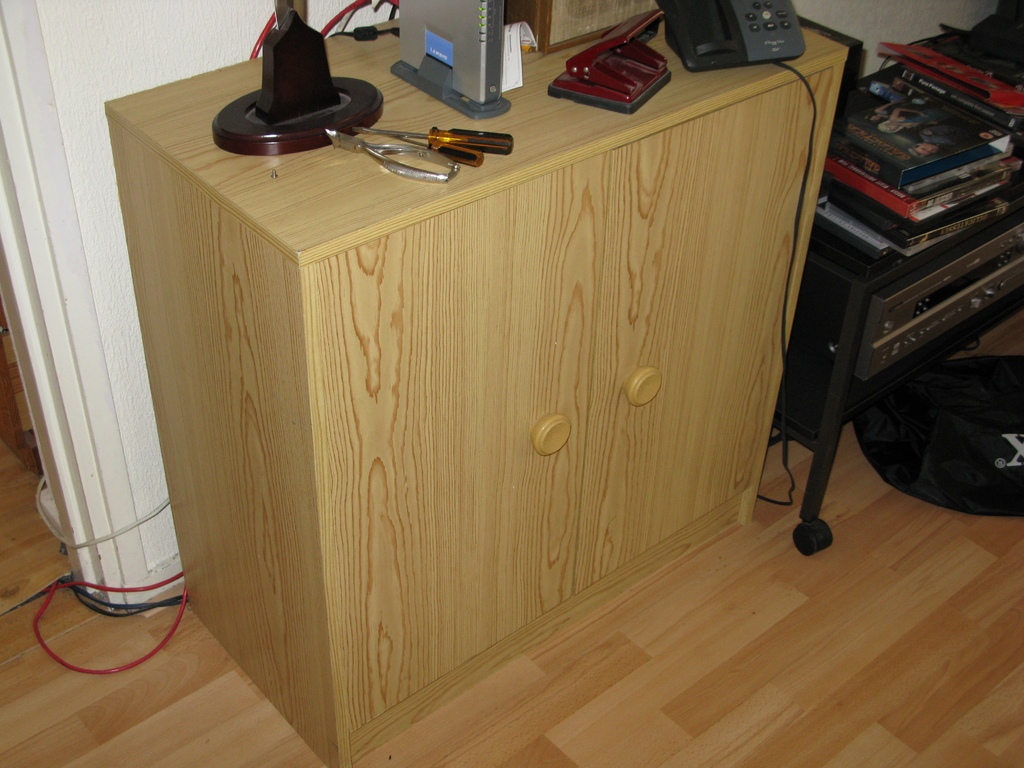Cabinetry: (97, 15, 851, 767)
